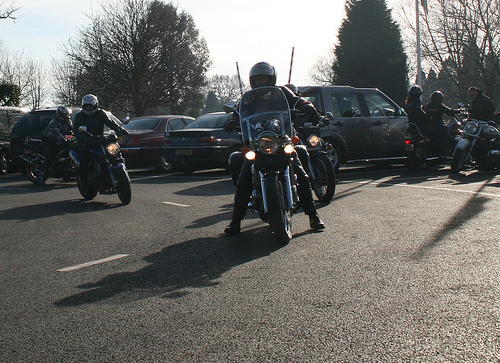helmet: (246, 62, 275, 83), (78, 95, 97, 108), (53, 105, 72, 117)
